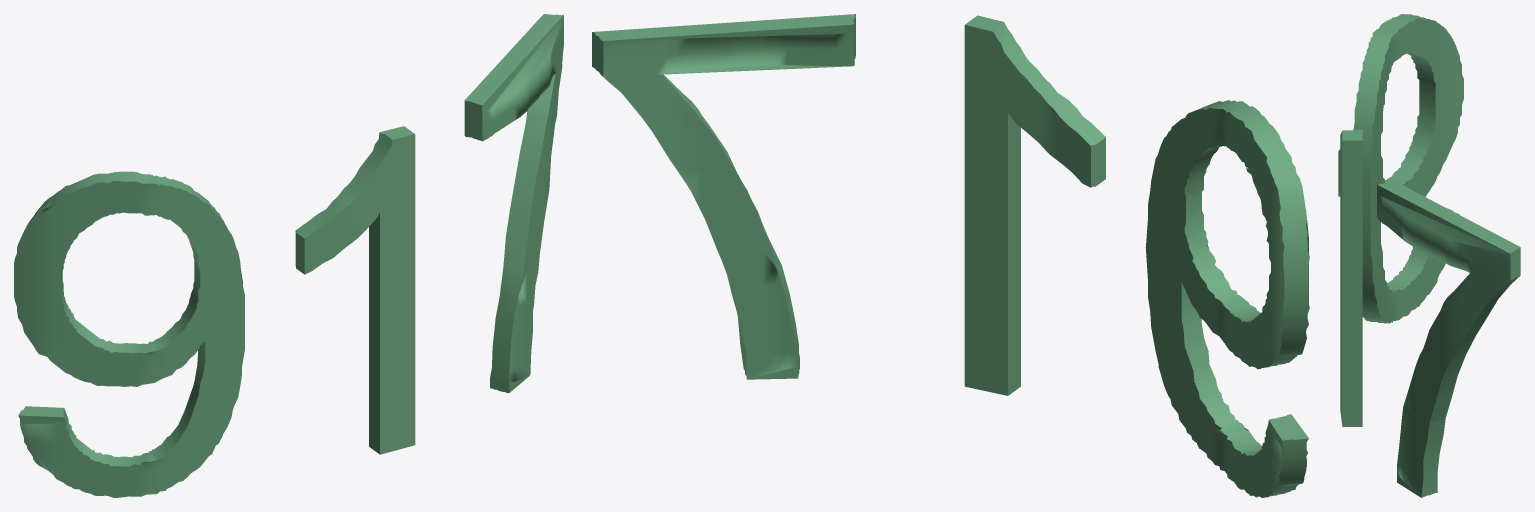
Rendered from port_17.obj.
The picture shows the model from 3 angles, left to right: view 1: azimuth 30°, elevation 25°; view 2: azimuth 150°, elevation 25°; view 3: azimuth 270°, elevation 25°; orthographic projection. The views are drawn at different scales.
Visible parts, largest first — view 1: Text01; view 2: Text01; view 3: Text01.
Boxes of the visible parts, x1,y1,x2,y2 form: Text01: [14, 14, 563, 497]; Text01: [592, 14, 1309, 497]; Text01: [1338, 14, 1520, 497].
Size of the model in its own units: 3.06 by 1.59 by 0.9.
